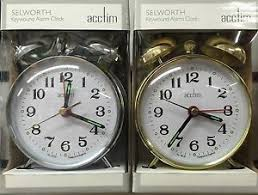alarm_clock: (140, 39, 252, 168)
